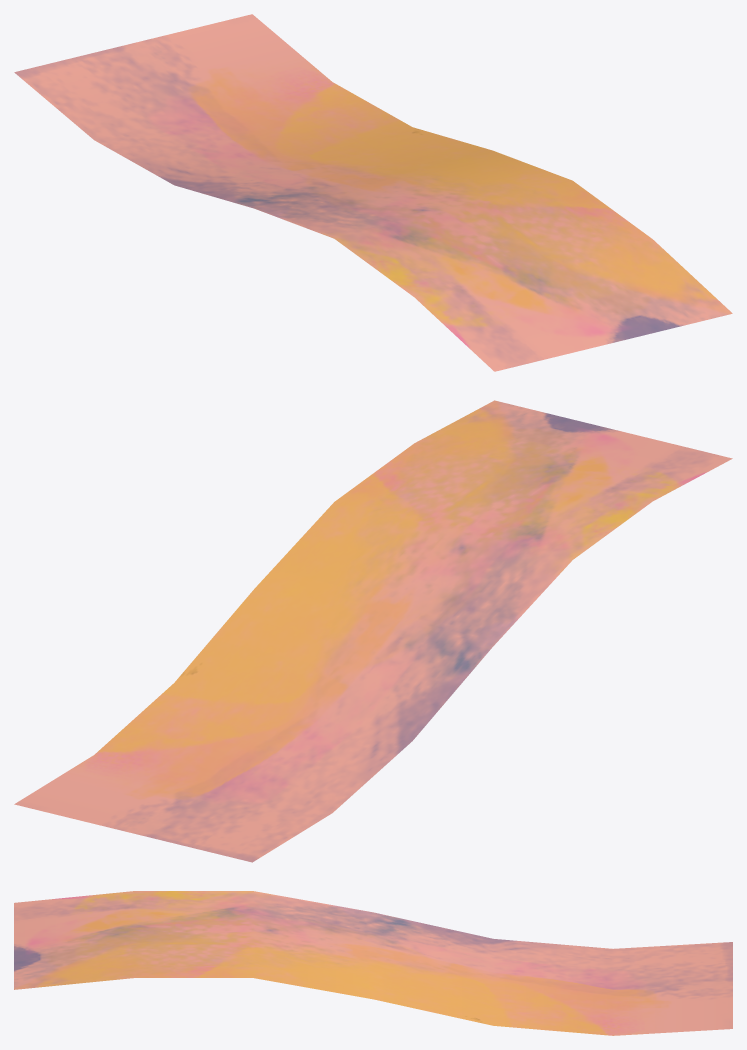
Rendered from S_BrushStroke_OrangeSmall.fbx.
3 views of the same model, one above another, from view 1: azimuth 30°, elevation 25°; view 2: azimuth 150°, elevation 25°; view 3: azimuth 270°, elevation 25° (orthographic). The views are drawn at different scales.
Visible parts, largest first — view 1: S_BrushStroke_OrangeSmall; view 2: S_BrushStroke_OrangeSmall; view 3: S_BrushStroke_OrangeSmall.
Part boxes in pixels (bbox=[...]): S_BrushStroke_OrangeSmall: bbox=[14, 14, 732, 371]; S_BrushStroke_OrangeSmall: bbox=[14, 400, 732, 862]; S_BrushStroke_OrangeSmall: bbox=[14, 891, 732, 1035].
Size of the model in its own units: 0.8197 by 0.2537 by 2.86.
